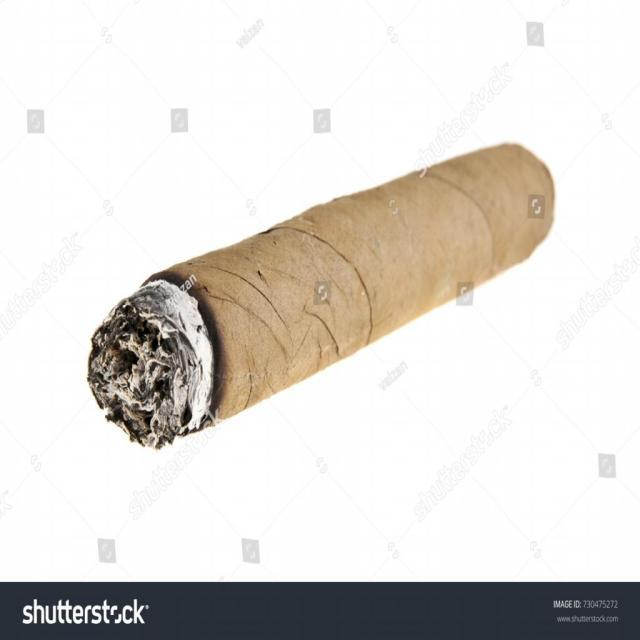smoking: (56, 105, 590, 469)
